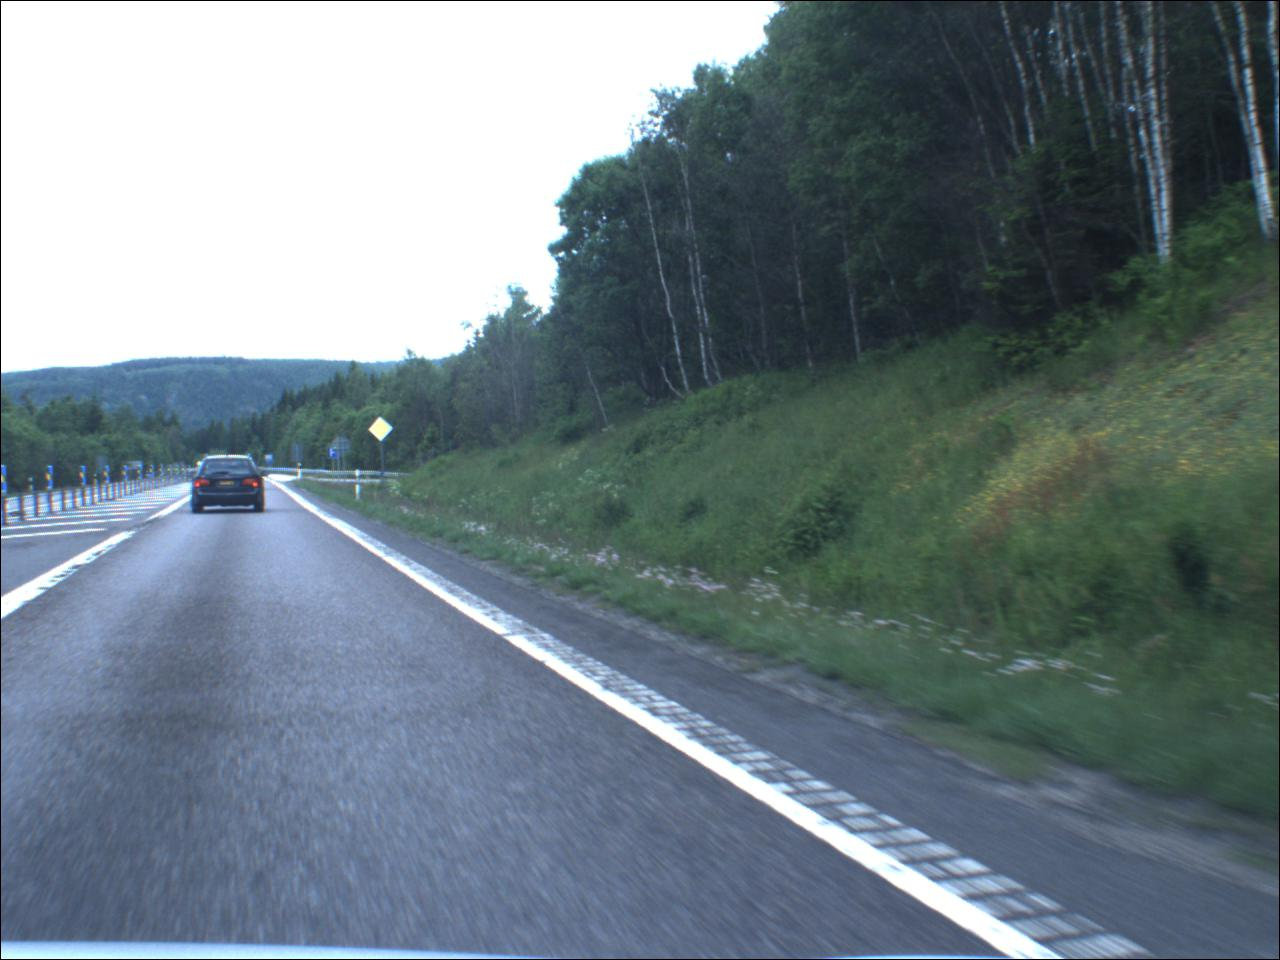PRIORITY_ROAD: (369, 413, 397, 444)
